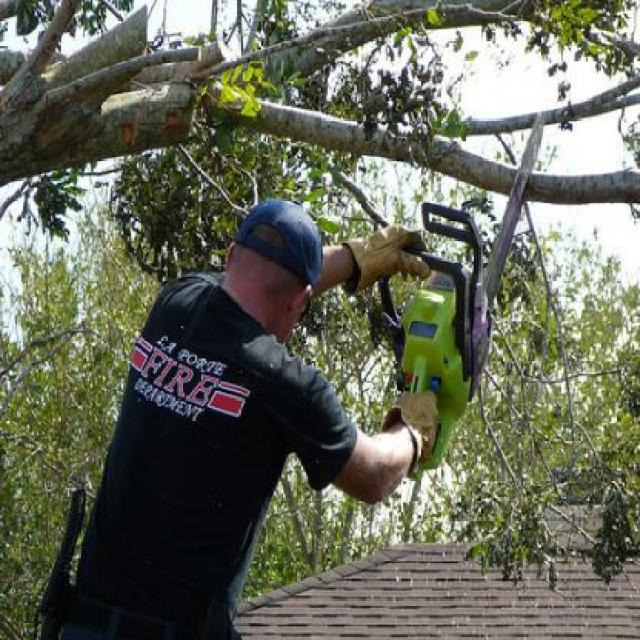Chainsaw: (365, 110, 546, 482)
